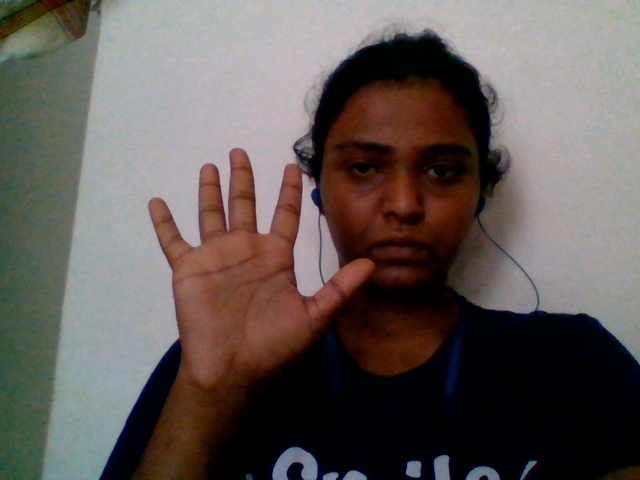Hello: (127, 126, 380, 382)
